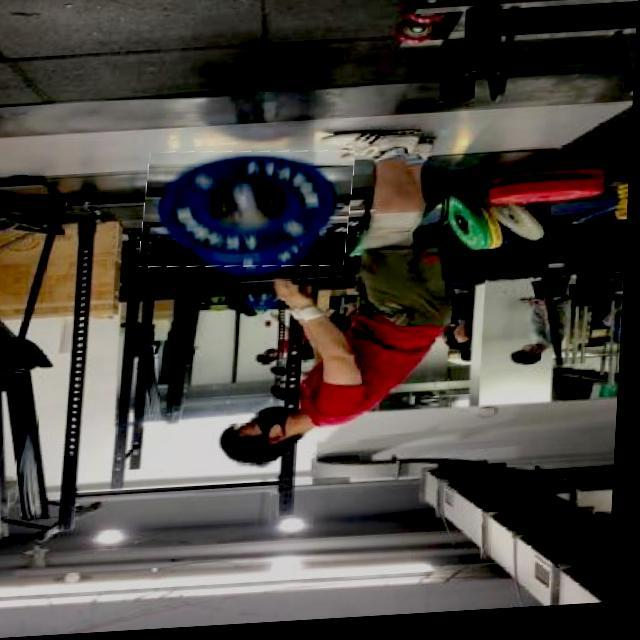barbell: (144, 149, 358, 277)
